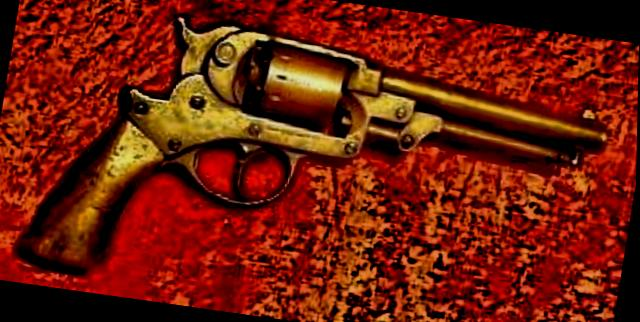pistol: (7, 0, 621, 322)
